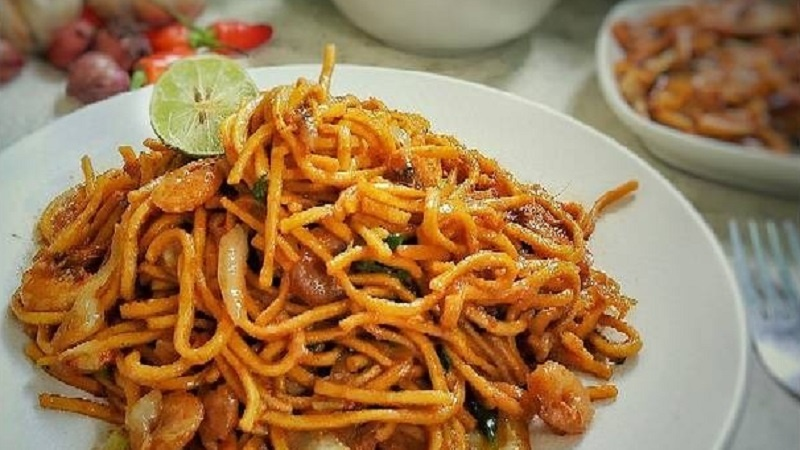mie_aceh: (15, 83, 644, 450)
